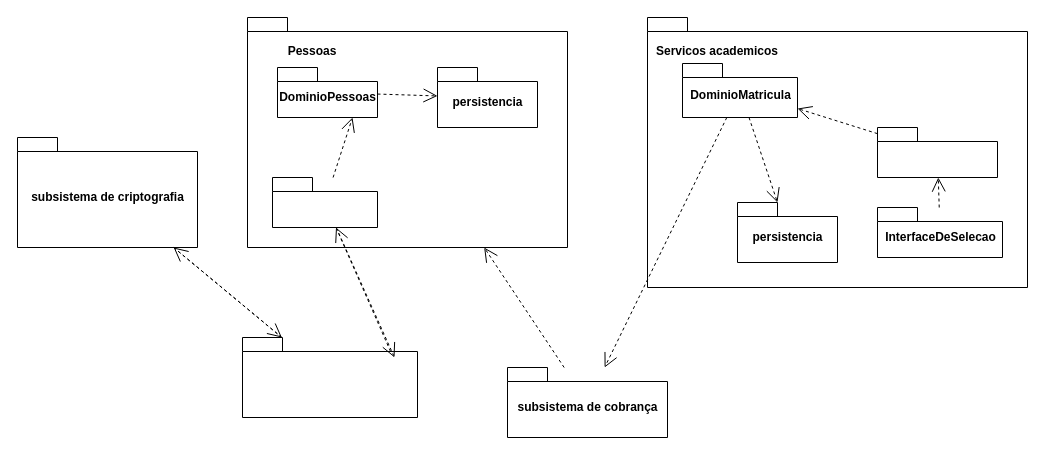
The diagram is 1045 pixels wide and 455 high, and some of its shapes have lost their labels. Each missing label, with the centre of its shape:
"DominioDiscplina" belongs at [937,152].
"InterfaceDeLogin" belongs at [325,202].
"subsistema de autenticacao" belongs at [330,377].
